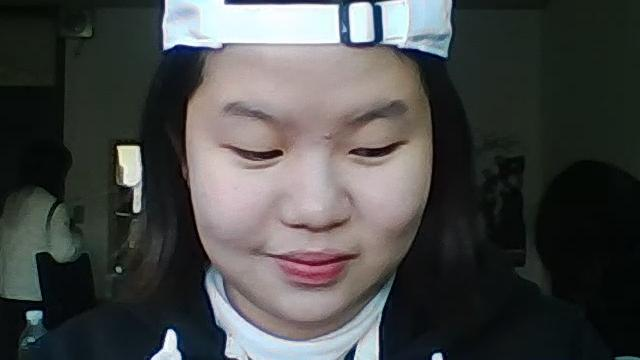iris: (238, 149, 283, 159), (349, 147, 394, 157)
